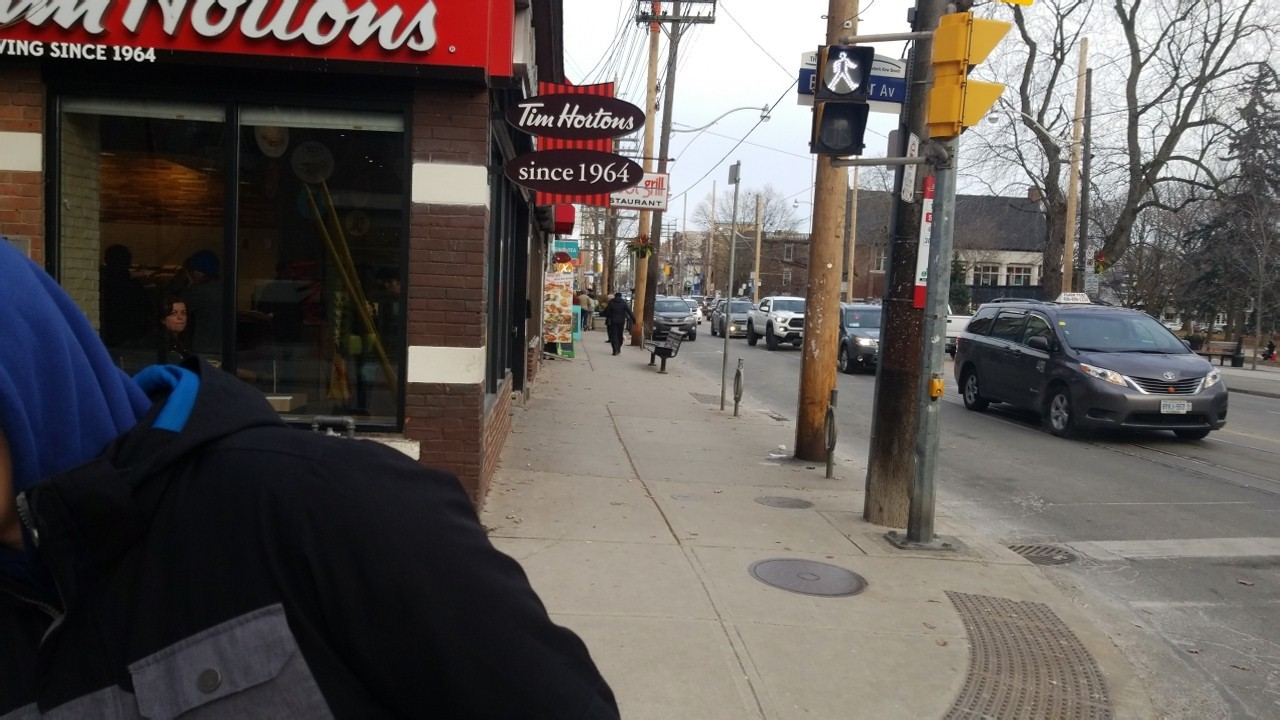light: (805, 40, 875, 159)
